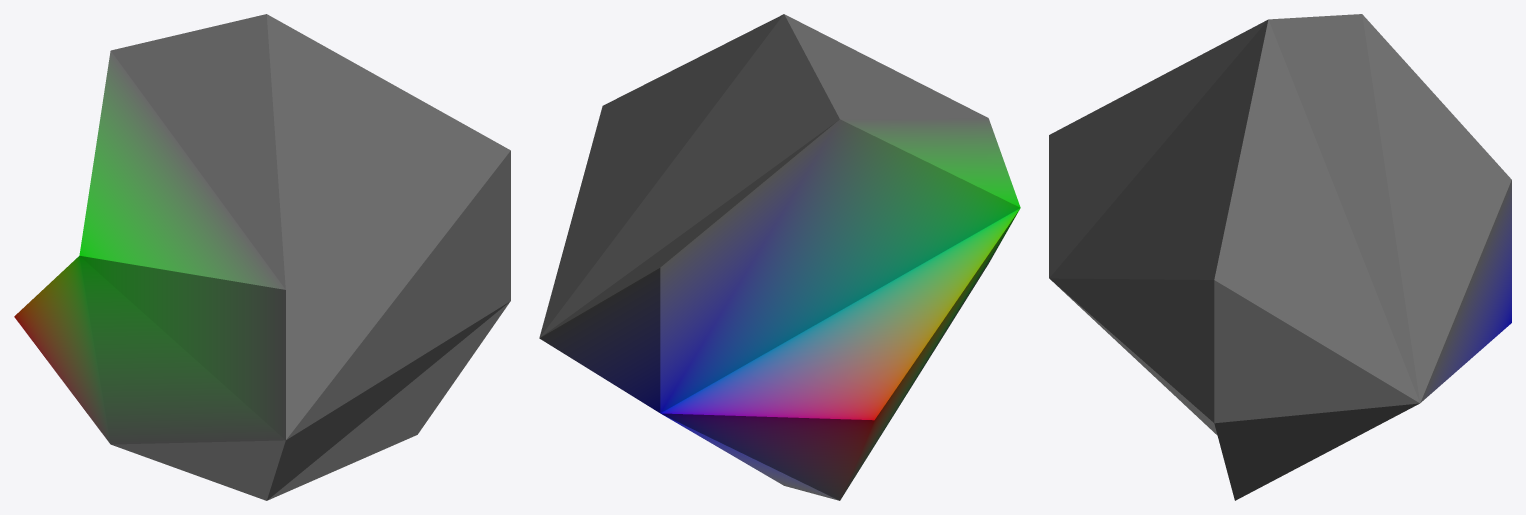
Rendered from decimating_conquest_4_27.obj.
3 views of the same model, side by side, from view 1: azimuth 30°, elevation 25°; view 2: azimuth 150°, elevation 25°; view 3: azimuth 270°, elevation 25° (orthographic). The views are drawn at different scales.
Size of the model in its own units: 1.85 by 2 by 1.81.
